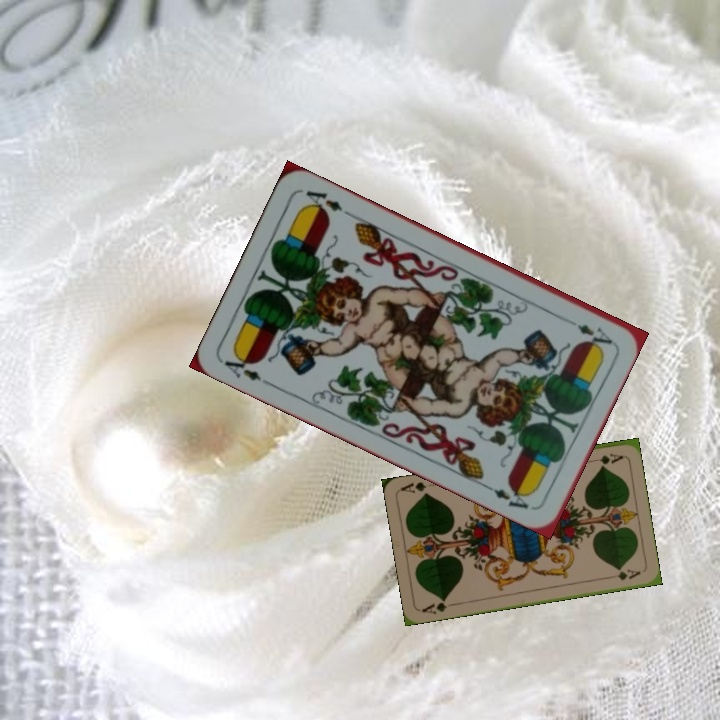EA: (220, 348, 274, 388), (573, 320, 616, 347)
GA: (418, 594, 458, 617), (584, 449, 625, 466)
